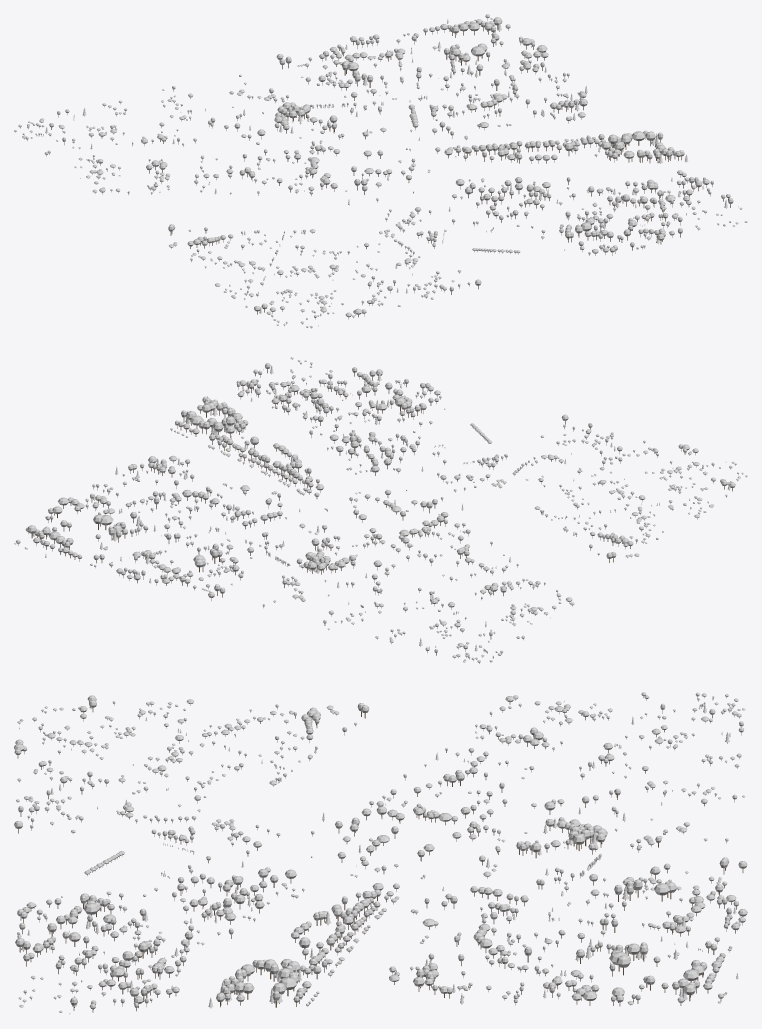
Rendered from stromy.glb.
The picture shows the model from 3 angles, top to bottom: view 1: azimuth 30°, elevation 25°; view 2: azimuth 150°, elevation 25°; view 3: azimuth 270°, elevation 25°; orthographic projection. The views are drawn at different scales.
Visible parts, largest first — view 1: Stromy_Listnate_03_06, Stromy_Ihlicnate_03_06; view 2: Stromy_Listnate_03_06, Stromy_Ihlicnate_03_06; view 3: Stromy_Listnate_03_06, Stromy_Ihlicnate_03_06.
Boxes of the visible parts, bbox=[...] form: Stromy_Listnate_03_06: bbox=[14, 14, 747, 328]; Stromy_Ihlicnate_03_06: bbox=[24, 19, 738, 326]; Stromy_Listnate_03_06: bbox=[14, 357, 747, 663]; Stromy_Ihlicnate_03_06: bbox=[32, 365, 730, 658]; Stromy_Listnate_03_06: bbox=[14, 692, 747, 1012]; Stromy_Ihlicnate_03_06: bbox=[19, 697, 738, 1014].
Bounding box in the file's own units: 1012 × 44.15 × 1008.
